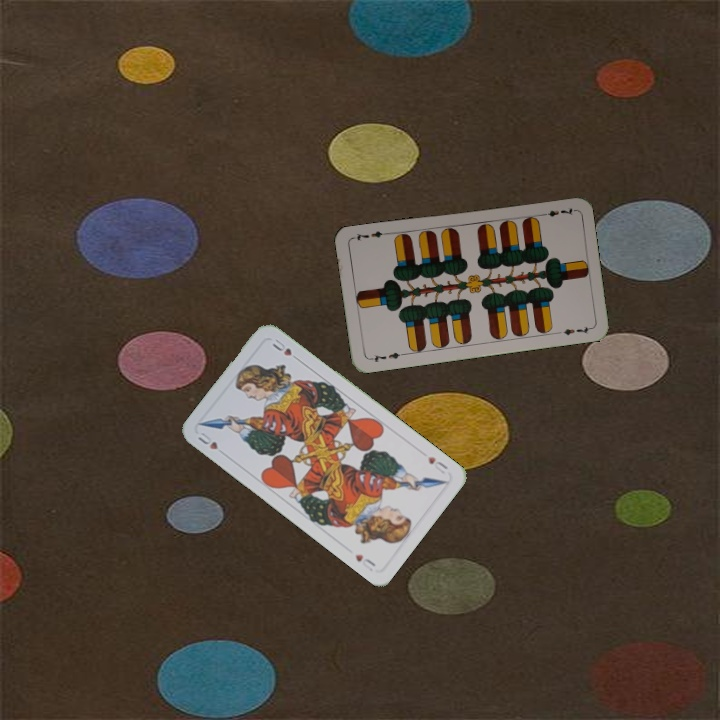E7: (536, 204, 577, 220), (366, 348, 406, 364)
HU: (194, 427, 220, 452), (424, 452, 450, 476)
